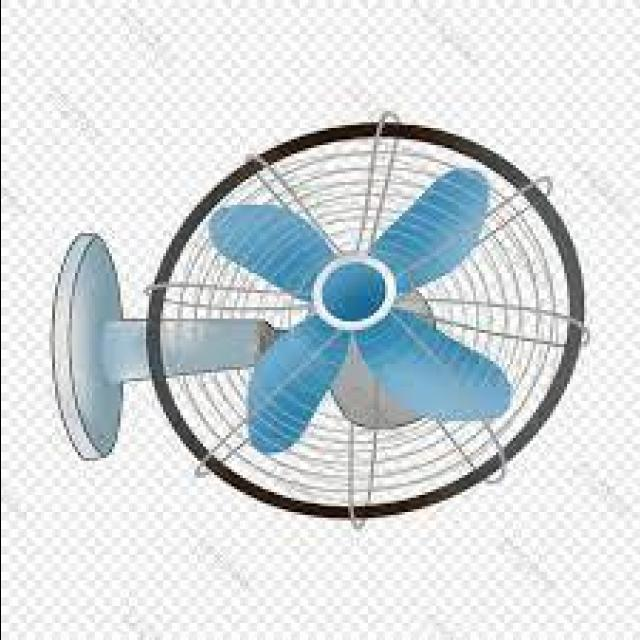fan: (41, 116, 592, 536)
